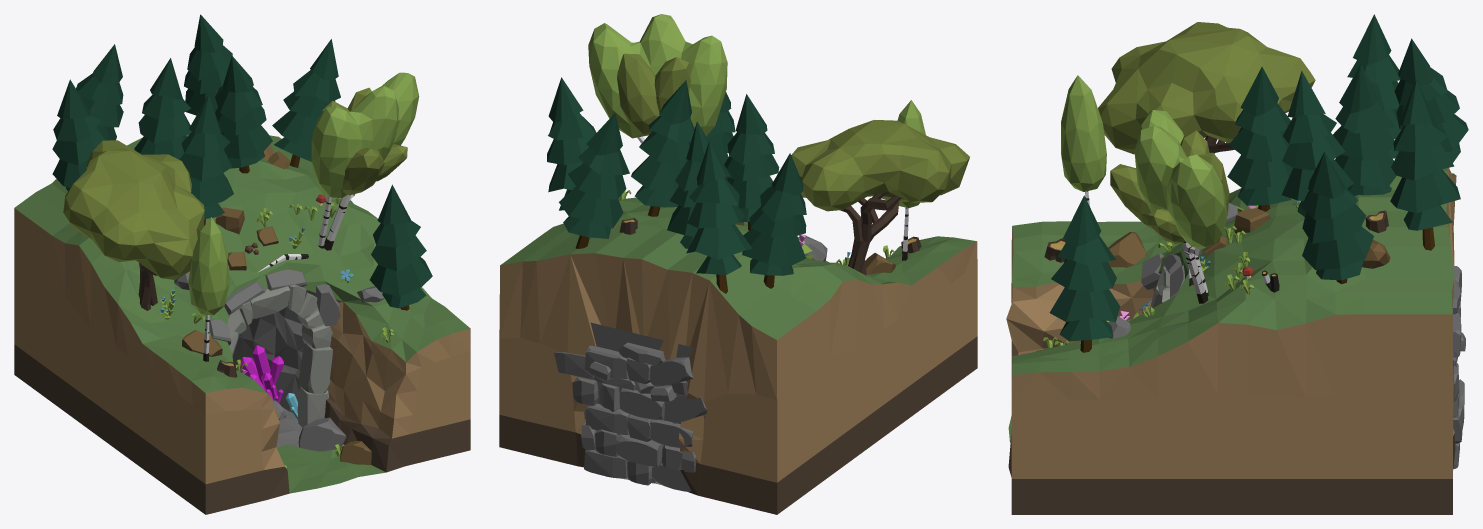
Rendered from End Corridor - Mesh.fbx.
3 views of the same model, side by side, from view 1: azimuth 30°, elevation 25°; view 2: azimuth 150°, elevation 25°; view 3: azimuth 270°, elevation 25° (orthographic). The views are drawn at different scales.
Parts seen in each view (by area): view 1: Grid.005; view 2: Grid.005; view 3: Grid.005.
Boxes of the visible parts, x1,y1,x2,y2 form: Grid.005: (14, 14, 470, 514); Grid.005: (499, 14, 977, 514); Grid.005: (1006, 14, 1468, 514).
Size of the model in its own units: 2594 by 2515 by 2619.
